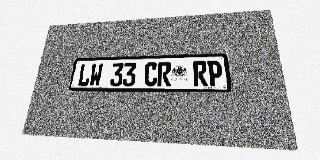3: (122, 62, 136, 86), (110, 63, 124, 86)
C: (144, 62, 158, 86)
L: (77, 64, 92, 86)
P: (207, 60, 223, 86)
R: (193, 61, 208, 86), (157, 62, 171, 86)
W: (89, 63, 103, 86)
